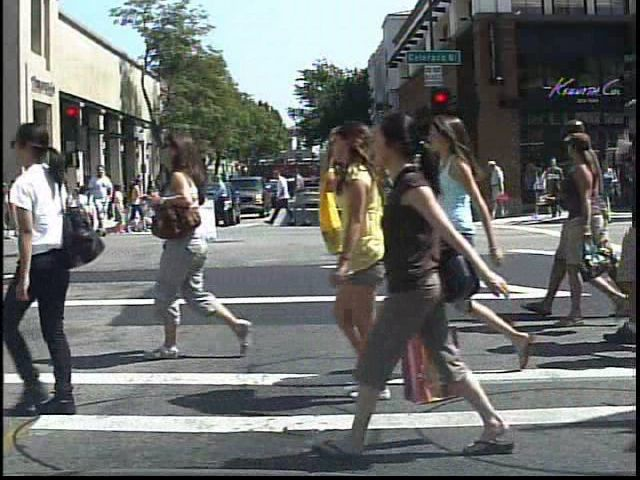person: (348, 102, 494, 461), (418, 105, 552, 380), (0, 116, 108, 431), (129, 117, 251, 363), (326, 116, 390, 391), (86, 160, 118, 240), (484, 154, 515, 227), (41, 165, 70, 240), (11, 171, 35, 242), (101, 177, 122, 218), (164, 175, 183, 210)
